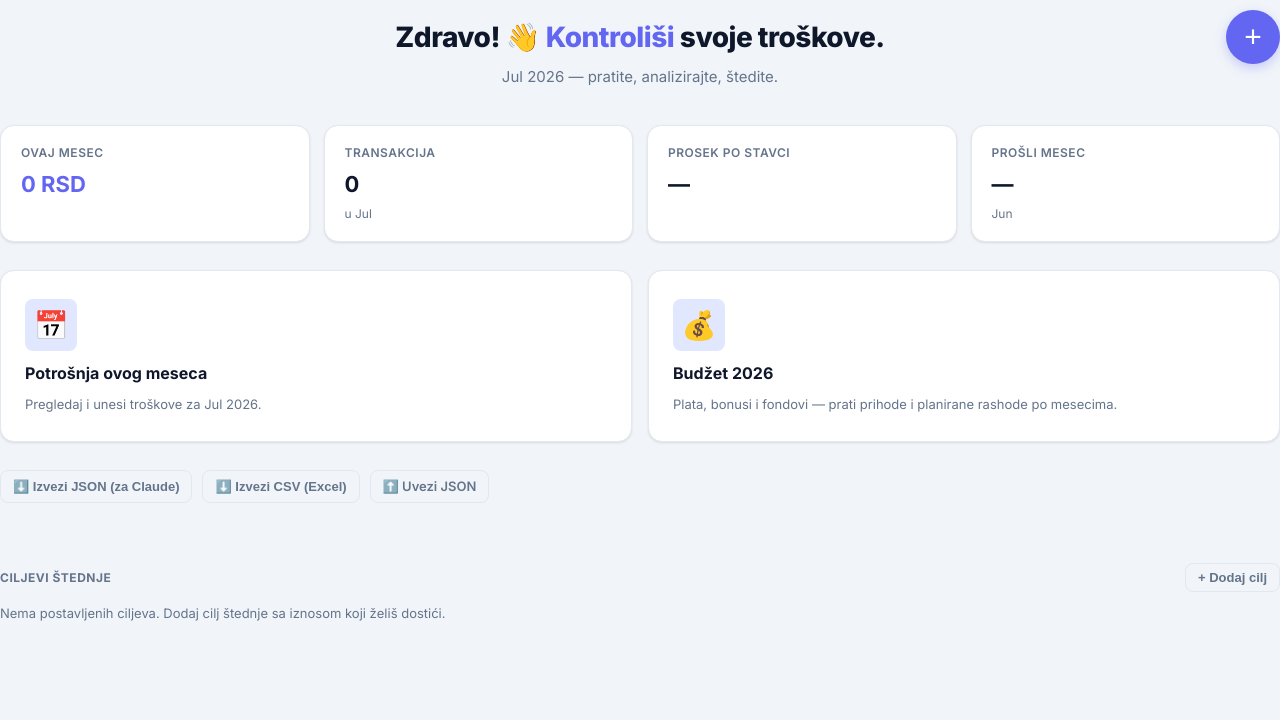
Test case: Home — quick-add button › clicking add button opens the expense modal
Click the button named "dodaj trošak": x=1253, y=37 [1226,10,1279,64]
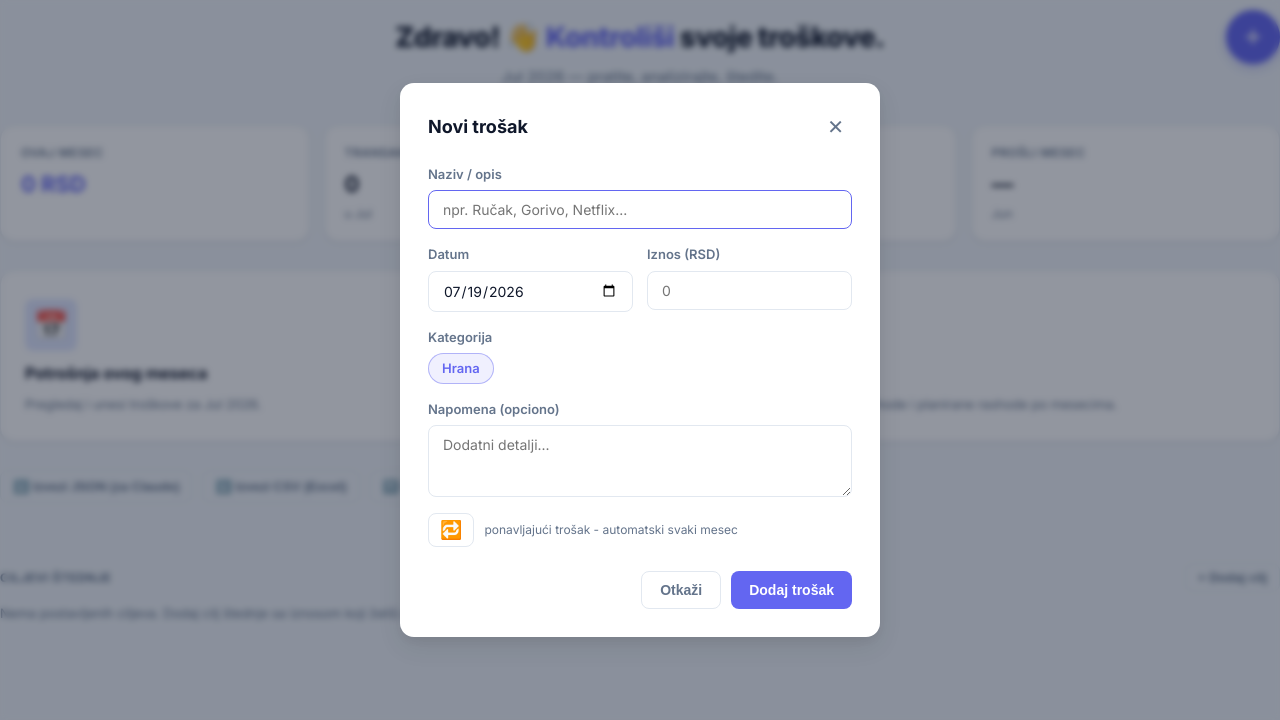
Result: the text "Novi trošak" is shown at [428,113,528,140]
